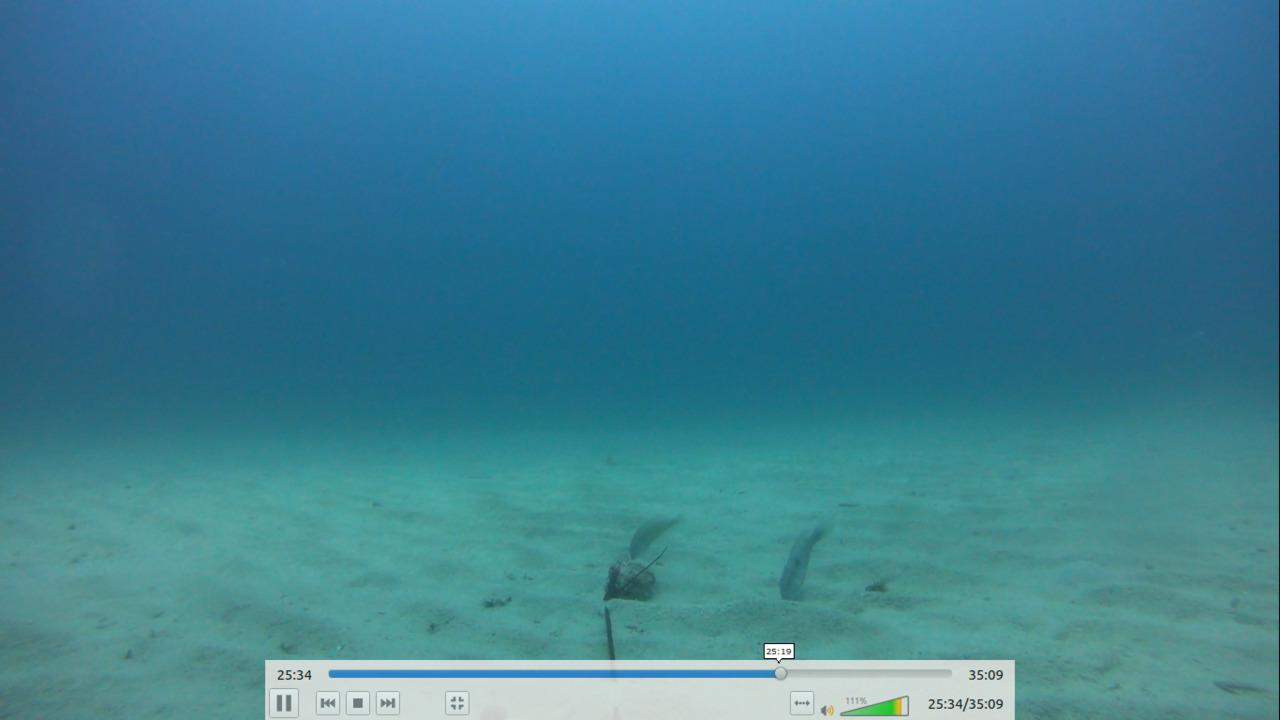raor: (775, 516, 834, 610), (624, 505, 686, 566)
